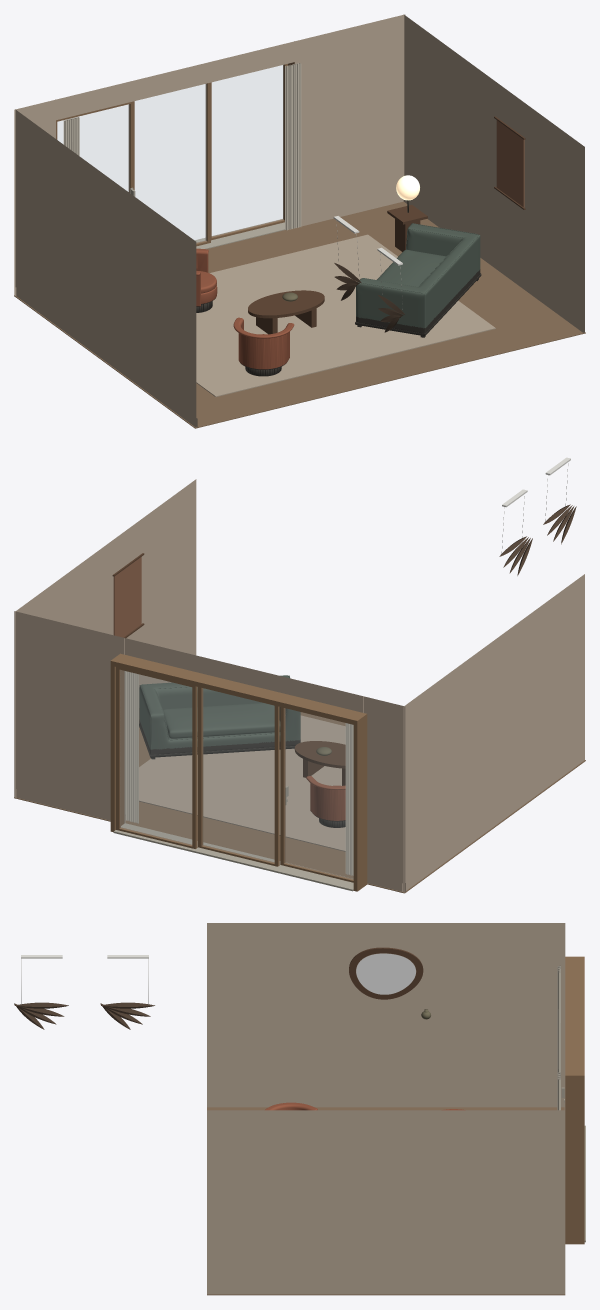
File: great-1.glb
3 views of the same model, one above another, from view 1: azimuth 30°, elevation 25°; view 2: azimuth 150°, elevation 25°; view 3: azimuth 270°, elevation 25° (orthographic).
Parts seen in each view (by area): view 1: DESIGN | great removable wall finish, DESIGN | Great room primary ground, DESIGN | great floor finish, DESIGN | R10 lift-slide panel 3 glass, DESIGN | R10 lift-slide panel 2 glass, DESIGN | Great room sofa facing conversation, DESIGN | R10 lift-slide panel 1 glass, DESIGN | Great room soft window edge.001, DESIGN | Required Bellustar swivel chair one, DESIGN | Great room linen hanging, DESIGN | R7 low conversation table, DESIGN | Required Bellustar swivel chair two (+3 smaller); view 2: DESIGN | great removable wall finish, DESIGN | Great room primary ground, DESIGN | R10 lift-slide panel 3 glass, DESIGN | R10 lift-slide panel 2 glass, DESIGN | R10 lift-slide panel 1 glass, DESIGN | Great room sofa facing conversation, DESIGN | great floor finish, DESIGN | R10 garden opening head, DESIGN | R10 garden opening jamb, DESIGN | R10 drained garden sill, DESIGN | Great room soft window edge.001, DESIGN | Great room linen hanging (+11 smaller); view 3: DESIGN | great removable wall finish, DESIGN | R10 garden opening jamb.001, DESIGN | R10 garden opening head, DESIGN | R10 Giolino study reflective surface, DESIGN | great floor finish, DESIGN | R10 Giolino-inspired walnut frame, DESIGN | Required Flou pendant 1, DESIGN | Required Flou pendant 2.
Part boxes in pixels (left/top/right/bottom): DESIGN | great removable wall finish: left=14, top=14, right=584, bottom=427; DESIGN | Great room primary ground: left=196, top=234, right=495, bottom=396; DESIGN | great floor finish: left=14, top=201, right=585, bottom=428; DESIGN | R10 lift-slide panel 3 glass: left=212, top=65, right=283, bottom=236; DESIGN | R10 lift-slide panel 2 glass: left=135, top=84, right=206, bottom=242; DESIGN | Great room sofa facing conversation: left=355, top=223, right=481, bottom=337; DESIGN | R10 lift-slide panel 1 glass: left=57, top=104, right=129, bottom=192; DESIGN | Great room soft window edge.001: left=285, top=63, right=301, bottom=230; DESIGN | Required Bellustar swivel chair one: left=233, top=317, right=294, bottom=376; DESIGN | Great room linen hanging: left=496, top=120, right=524, bottom=207; DESIGN | R7 low conversation table: left=248, top=290, right=324, bottom=318; DESIGN | Required Bellustar swivel chair two: left=196, top=248, right=217, bottom=312; DESIGN | great removable wall finish: left=14, top=479, right=584, bottom=892; DESIGN | Great room primary ground: left=139, top=715, right=345, bottom=851; DESIGN | R10 lift-slide panel 3 glass: left=120, top=670, right=191, bottom=845; DESIGN | R10 lift-slide panel 2 glass: left=203, top=688, right=274, bottom=862; DESIGN | R10 lift-slide panel 1 glass: left=285, top=708, right=353, bottom=879; DESIGN | Great room sofa facing conversation: left=139, top=675, right=300, bottom=759; DESIGN | great floor finish: left=14, top=708, right=585, bottom=893; DESIGN | R10 garden opening head: left=110, top=653, right=367, bottom=725; DESIGN | R10 garden opening jamb: left=353, top=716, right=367, bottom=891; DESIGN | R10 drained garden sill: left=113, top=823, right=353, bottom=891; DESIGN | Great room soft window edge.001: left=125, top=671, right=138, bottom=823; DESIGN | Great room linen hanging: left=113, top=557, right=141, bottom=637; DESIGN | great removable wall finish: left=207, top=923, right=565, bottom=1294; DESIGN | R10 garden opening jamb.001: left=565, top=1077, right=584, bottom=1244; DESIGN | R10 garden opening head: left=565, top=956, right=584, bottom=1080; DESIGN | R10 Giolino study reflective surface: left=356, top=953, right=415, bottom=994; DESIGN | great floor finish: left=207, top=1107, right=565, bottom=1295; DESIGN | R10 Giolino-inspired walnut frame: left=349, top=947, right=423, bottom=999; DESIGN | Required Flou pendant 1: left=14, top=1002, right=68, bottom=1029; DESIGN | Required Flou pendant 2: left=100, top=1002, right=154, bottom=1029.
Size of the model in its own units: 6 by 3.04 by 7.7.
